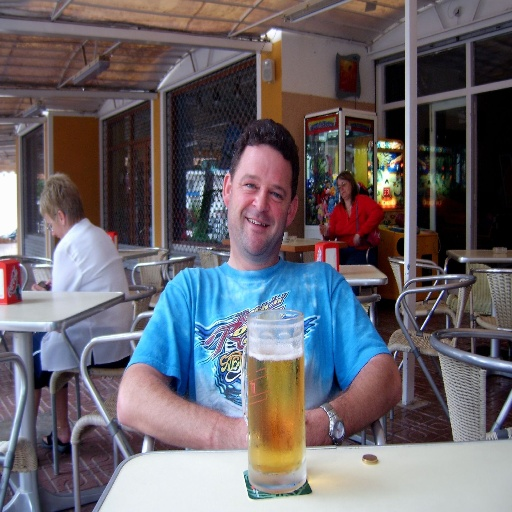hand: (244, 408, 322, 446), (234, 413, 308, 448), (31, 279, 48, 290), (317, 222, 330, 236), (46, 276, 52, 288), (354, 233, 360, 245)
